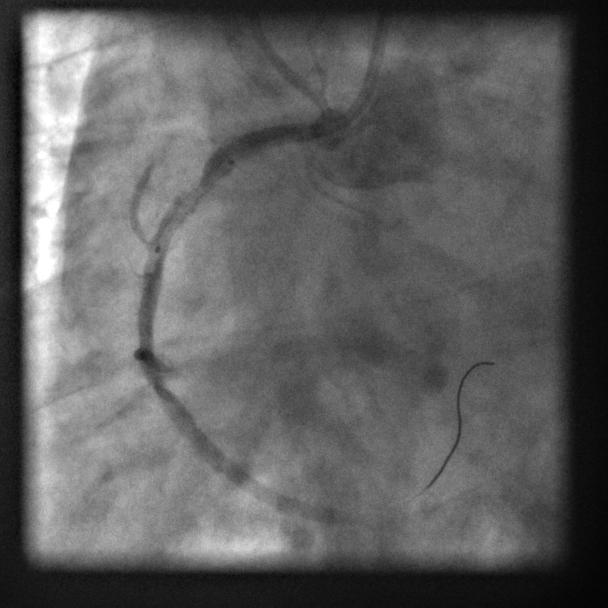Stenosis: (185, 170, 213, 213)
